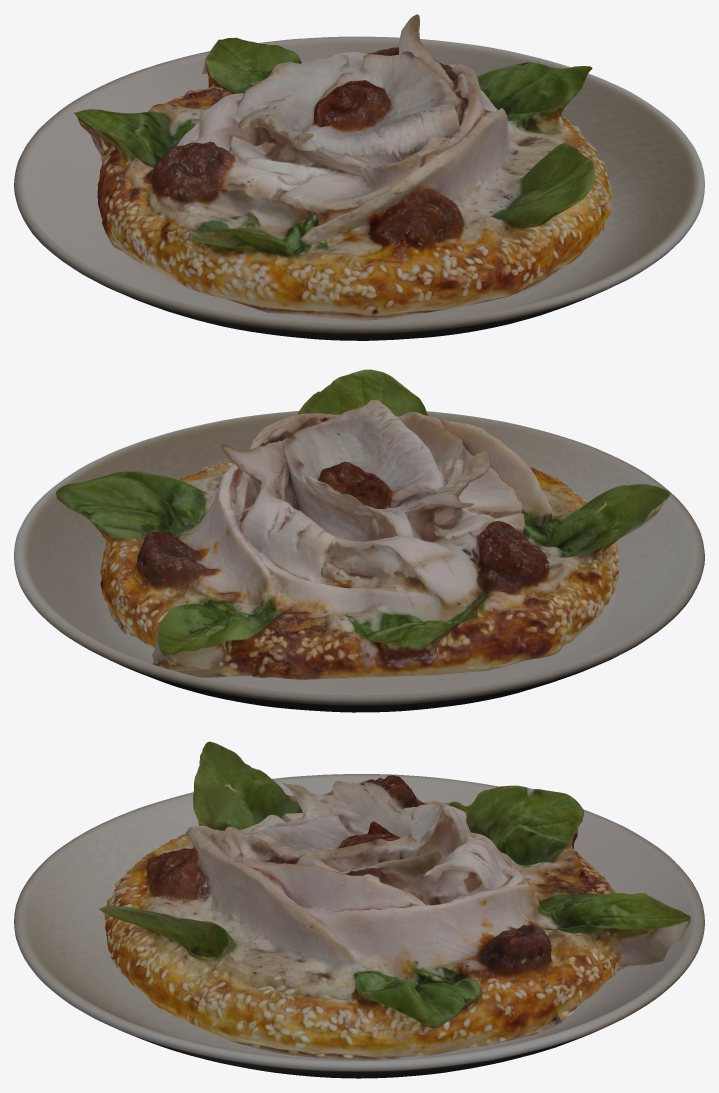
The model's file is flatbread.rostbeef.or.tturkey.glb.
The picture shows the model from 3 angles, top to bottom: view 1: azimuth 30°, elevation 25°; view 2: azimuth 150°, elevation 25°; view 3: azimuth 270°, elevation 25°; orthographic projection.
Parts seen in each view (by area): view 1: object 1, world; view 2: object 1, world; view 3: object 1, world.
Part boxes in pixels (x1,y1,x2,y2): object 1: (74, 14, 612, 321); world: (14, 36, 704, 340); object 1: (56, 369, 670, 679); world: (14, 411, 704, 712); object 1: (99, 741, 690, 1060); world: (14, 774, 704, 1078).
Bounding box in the file's own units: 0.2601 × 0.071 × 0.2601.
2 materials, 2 textured.
